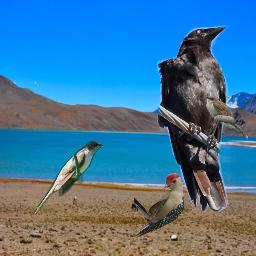Crow: (157, 24, 229, 212)
Cuckoo: (33, 141, 103, 215), (204, 96, 248, 139)
Woodpecker: (134, 173, 184, 240)
